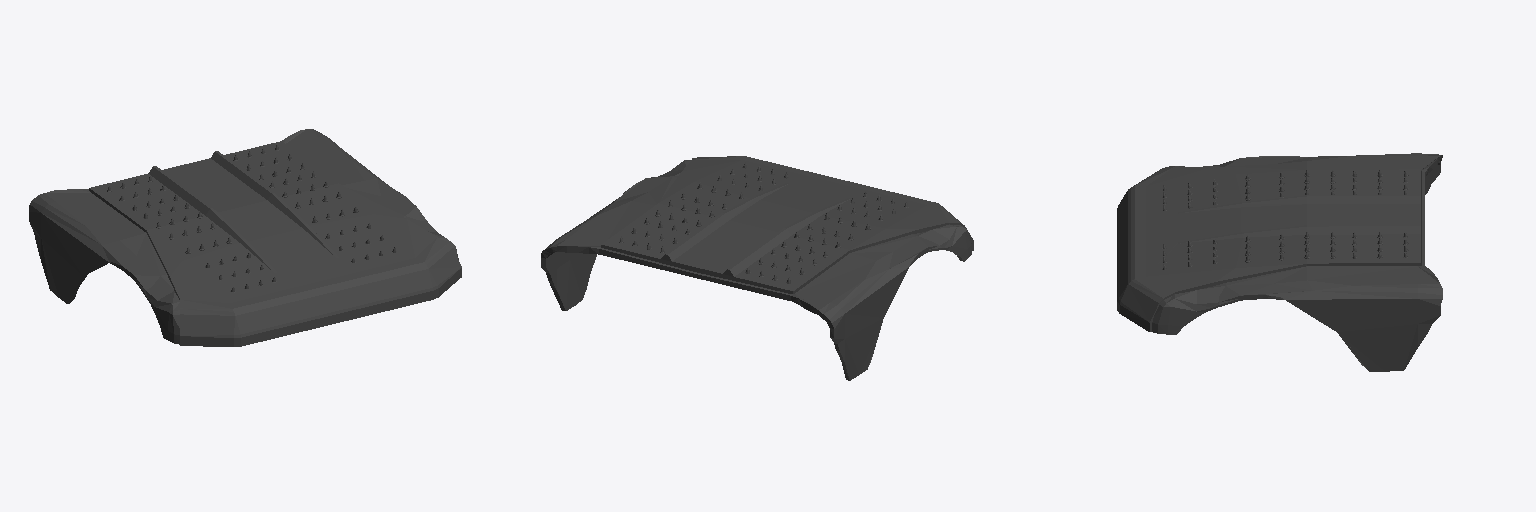
The model's file is hood.obj.
3 renders of one model, left to right at view 1: azimuth 30°, elevation 25°; view 2: azimuth 150°, elevation 25°; view 3: azimuth 270°, elevation 25°, orthographic.
Parts seen in each view (by area): view 1: Cube.006; view 2: Cube.006; view 3: Cube.006.
Boxes of the visible parts, <box> form: Cube.006: <box>29,129,461,346</box>; Cube.006: <box>541,156,973,380</box>; Cube.006: <box>1117,153,1442,371</box>.
Size of the model in its own units: 8.03 by 2.39 by 7.7.